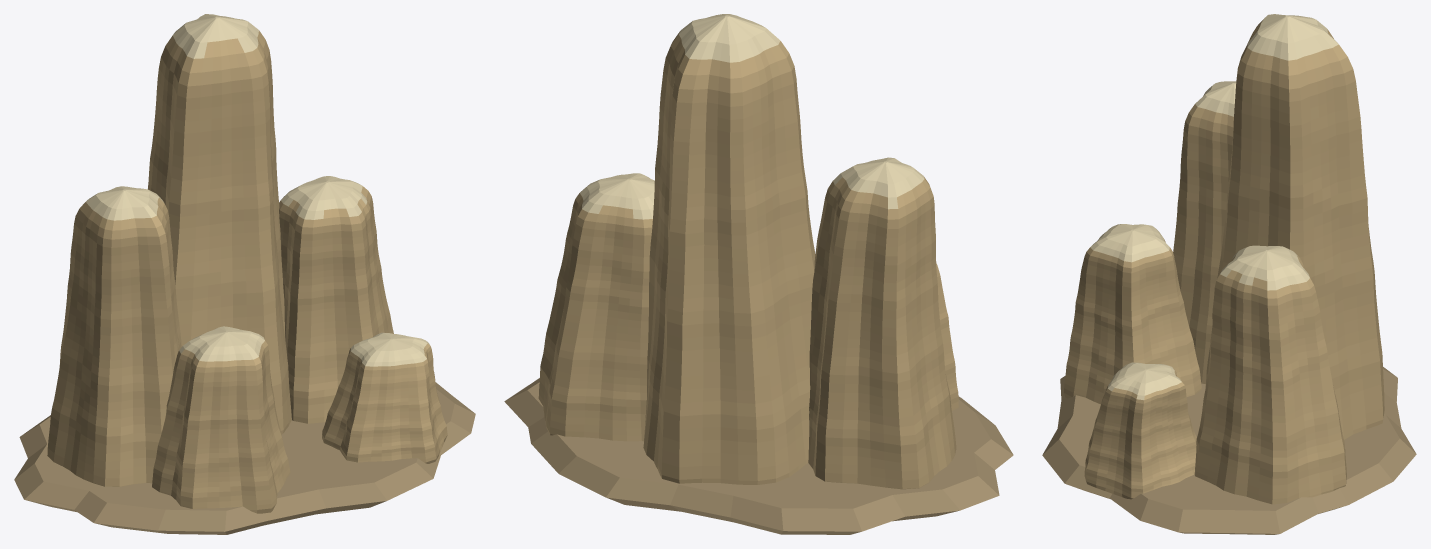
3 views of the same model, side by side, from view 1: azimuth 30°, elevation 25°; view 2: azimuth 150°, elevation 25°; view 3: azimuth 270°, elevation 25° (orthographic). The views are drawn at different scales.
Parts seen in each view (by area): view 1: solid_rounded_stalagmite_1_irregular_longitudinal_drips, solid_rounded_stalagmite_2_irregular_longitudinal_drips, low_irregular_floor_mineral_crust, solid_rounded_stalagmite_3_irregular_longitudinal_drips, solid_rounded_stalagmite_4_irregular_longitudinal_drips, solid_rounded_stalagmite_5_irregular_longitudinal_drips; view 2: solid_rounded_stalagmite_1_irregular_longitudinal_drips, solid_rounded_stalagmite_2_irregular_longitudinal_drips, solid_rounded_stalagmite_3_irregular_longitudinal_drips, low_irregular_floor_mineral_crust, solid_rounded_stalagmite_4_irregular_longitudinal_drips; view 3: solid_rounded_stalagmite_1_irregular_longitudinal_drips, solid_rounded_stalagmite_3_irregular_longitudinal_drips, low_irregular_floor_mineral_crust, solid_rounded_stalagmite_4_irregular_longitudinal_drips, solid_rounded_stalagmite_5_irregular_longitudinal_drips, solid_rounded_stalagmite_2_irregular_longitudinal_drips.
Part boxes in pixels (x1,y1,x2,y2): solid_rounded_stalagmite_1_irregular_longitudinal_drips: (148,14,291,433); solid_rounded_stalagmite_2_irregular_longitudinal_drips: (47,186,181,486); low_irregular_floor_mineral_crust: (14,382,475,534); solid_rounded_stalagmite_3_irregular_longitudinal_drips: (279,176,393,423); solid_rounded_stalagmite_4_irregular_longitudinal_drips: (152,326,290,513); solid_rounded_stalagmite_5_irregular_longitudinal_drips: (322,332,447,463); solid_rounded_stalagmite_1_irregular_longitudinal_drips: (643,14,815,484); solid_rounded_stalagmite_2_irregular_longitudinal_drips: (808,157,956,489); solid_rounded_stalagmite_3_irregular_longitudinal_drips: (538,173,654,441); low_irregular_floor_mineral_crust: (504,378,1013,534); solid_rounded_stalagmite_4_irregular_longitudinal_drips: (936,263,958,410); solid_rounded_stalagmite_1_irregular_longitudinal_drips: (1205,14,1384,439); solid_rounded_stalagmite_3_irregular_longitudinal_drips: (1194,245,1346,504); low_irregular_floor_mineral_crust: (1042,367,1416,534); solid_rounded_stalagmite_4_irregular_longitudinal_drips: (1063,224,1201,404); solid_rounded_stalagmite_5_irregular_longitudinal_drips: (1084,362,1196,499); solid_rounded_stalagmite_2_irregular_longitudinal_drips: (1173,81,1236,384).
Size of the model in its own units: 2.35 by 2.2 by 1.75.
